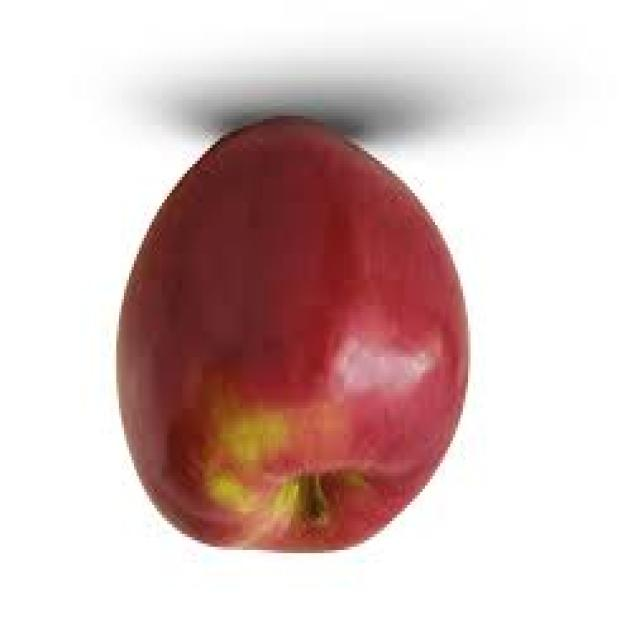apple: (115, 117, 478, 561)
